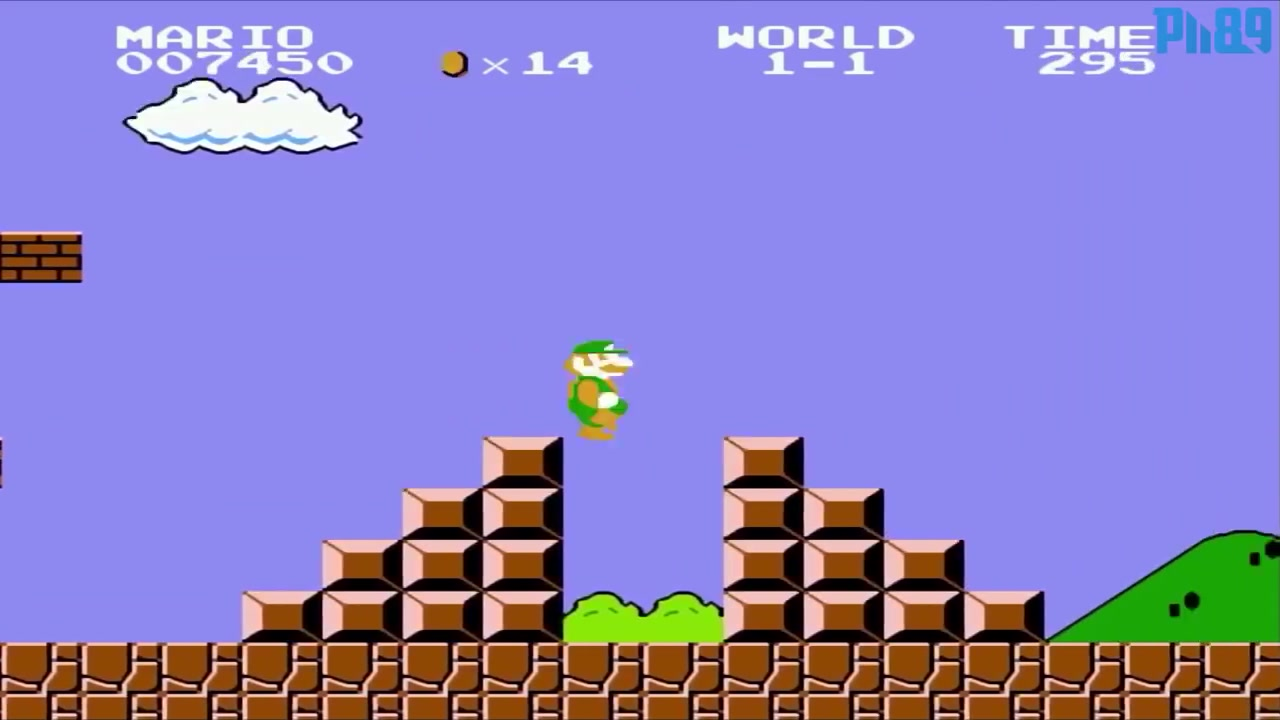mario: (559, 329, 638, 444)
